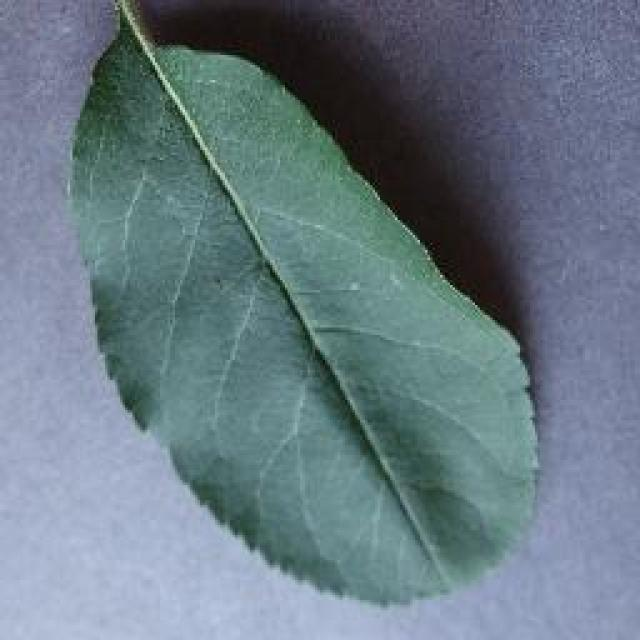apple healthy: (65, 0, 545, 605)
